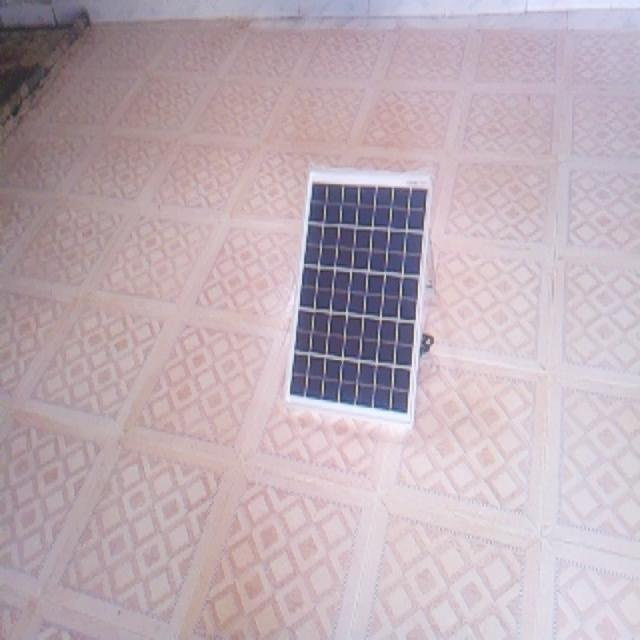Normal Solar Panel: (287, 173, 432, 423)
